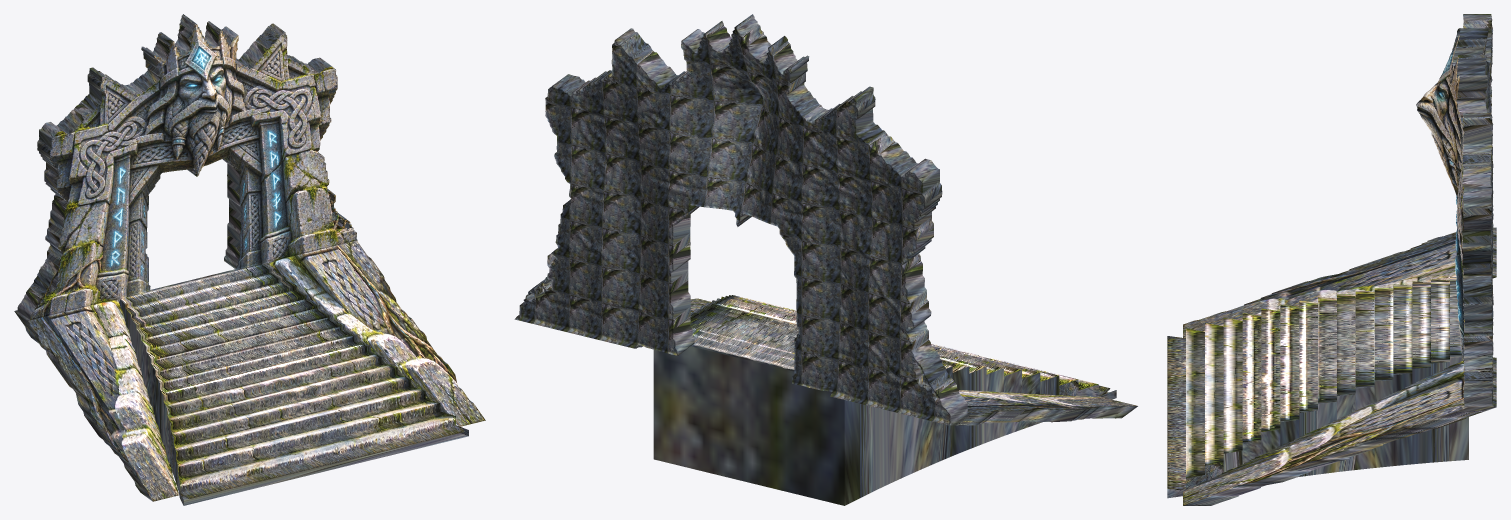
The model's file is Jotunheim_Giant_Gateway.glb.
3 views of the same model, side by side, from view 1: azimuth 30°, elevation 25°; view 2: azimuth 150°, elevation 25°; view 3: azimuth 270°, elevation 25° (orthographic). The views are drawn at different scales.
Visible parts, largest first — view 1: Jotunheim_Giant_Gateway; view 2: Jotunheim_Giant_Gateway; view 3: Jotunheim_Giant_Gateway.
Boxes of the visible parts, x1,y1,x2,y2 form: Jotunheim_Giant_Gateway: (14,14,485,505); Jotunheim_Giant_Gateway: (514,14,1137,505); Jotunheim_Giant_Gateway: (1167,14,1496,505).
Bounding box in the file's own units: 124 × 124 × 94.4.
Materials: 2 (2 with a texture image).
